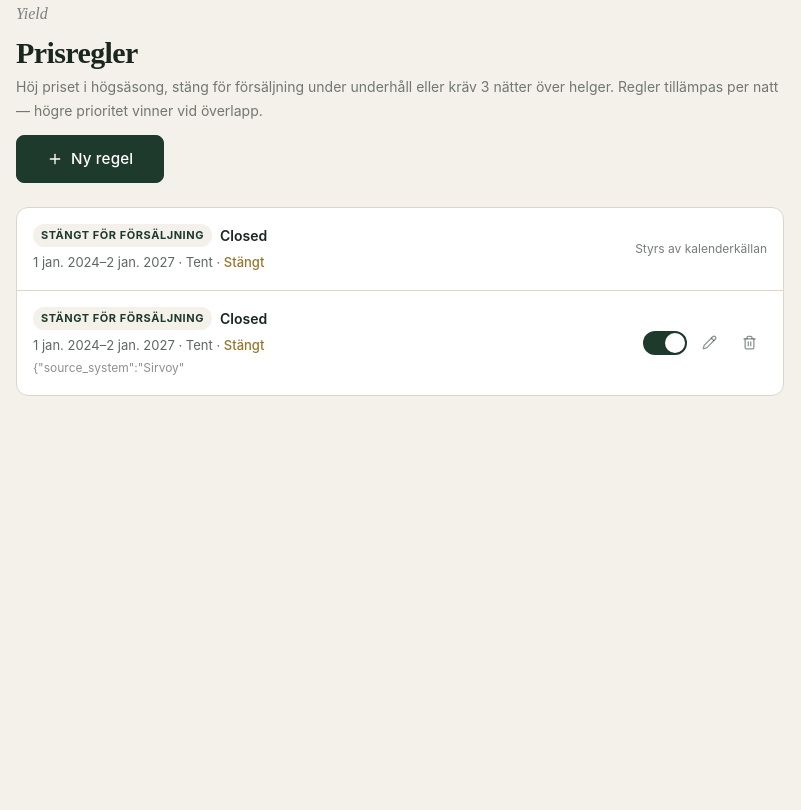
preserves ordinary or unrecognized notes in the list, editor and save: {"source_system":"Sirvoy"
Later steps or results of the test are not shown.
Expected: the text "{\"source_system\":\"Sirvoy\"" is shown, top-left (33, 360), bottom-right (184, 375)
What coordinates should you click on to do the following:
click the button titled "Redigera"
I would click on:
 (709, 343)
Its box is top-left (691, 325), bottom-right (727, 361).
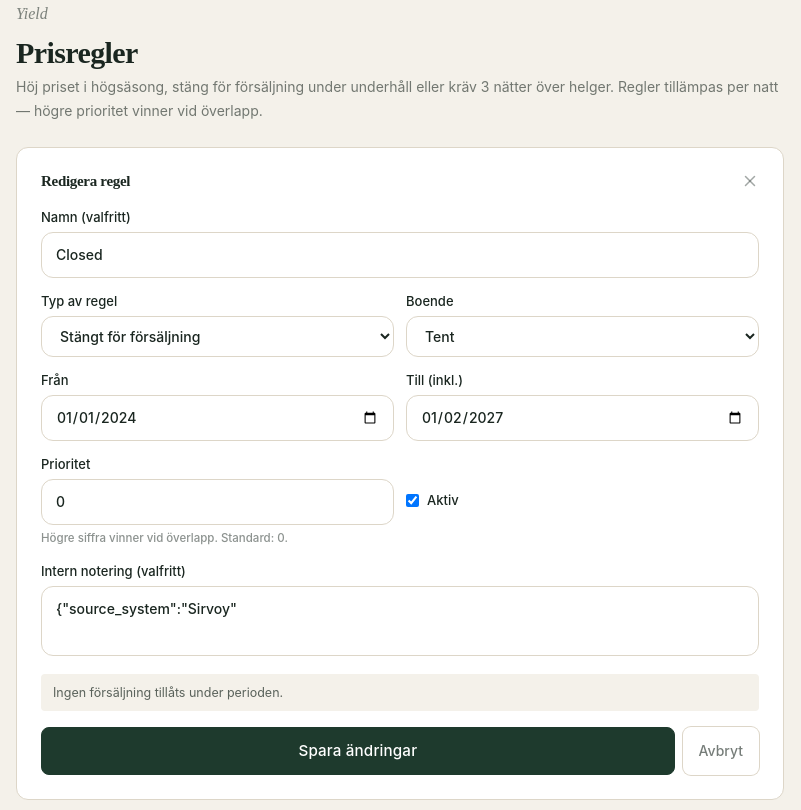
Expected: the text box labelled "Intern notering (valfritt)" holds "{\"source_system\":\"Sirvoy\"", top-left (41, 586), bottom-right (759, 656)
